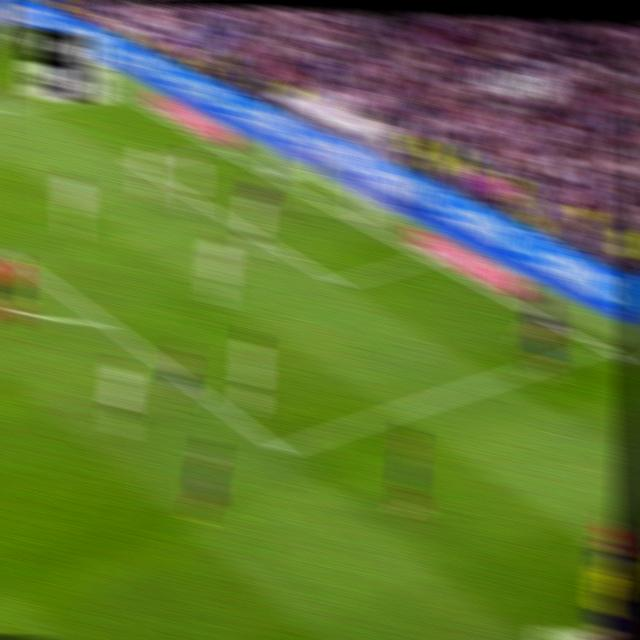bigarea_bottom_inner: (266, 431, 294, 468)
bigarea_bottom_outter: (587, 335, 611, 358)
bottom_arc_area_intersection: (91, 306, 117, 334)
corner: (0, 24, 19, 38)
smallarea_bottom_inner: (327, 270, 349, 295)
smallarea_top_inner: (127, 155, 146, 172)
